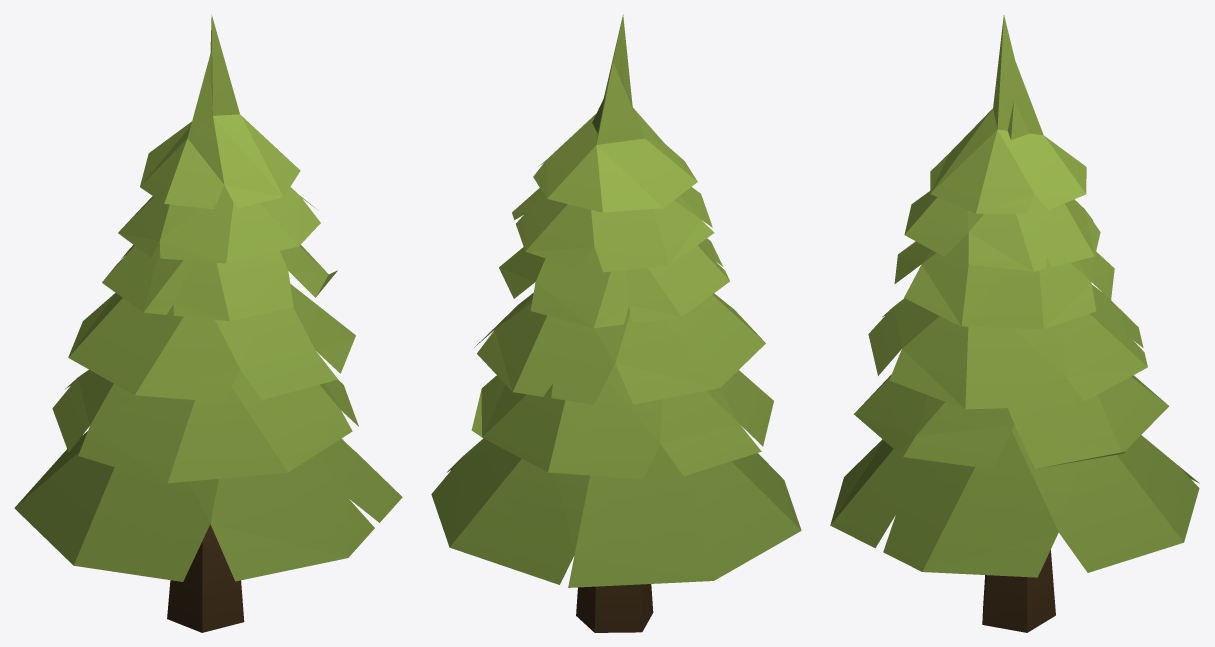
Rendered from tree_03.glb.
3 renders of one model, left to right at view 1: azimuth 30°, elevation 25°; view 2: azimuth 150°, elevation 25°; view 3: azimuth 270°, elevation 25°, orthographic.
Parts seen in each view (by area): view 1: Spring_Tree_03_LOD1; view 2: Spring_Tree_03_LOD1; view 3: Spring_Tree_03_LOD1.
Part boxes in pixels (x1,y1,x2,y2): Spring_Tree_03_LOD1: (14,15,402,632); Spring_Tree_03_LOD1: (431,14,801,632); Spring_Tree_03_LOD1: (830,15,1199,632).
Bounding box in the file's own units: 2.37 × 4.29 × 2.4.
Materials: 1 (1 with a texture image).
